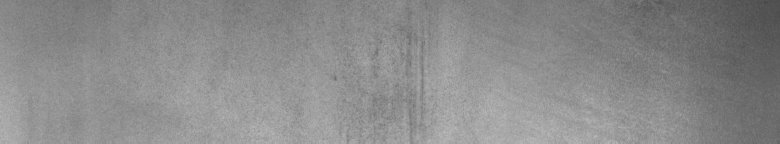ka: (333, 36, 427, 126)
